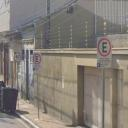speed_limit_40: (14, 52, 21, 63)
